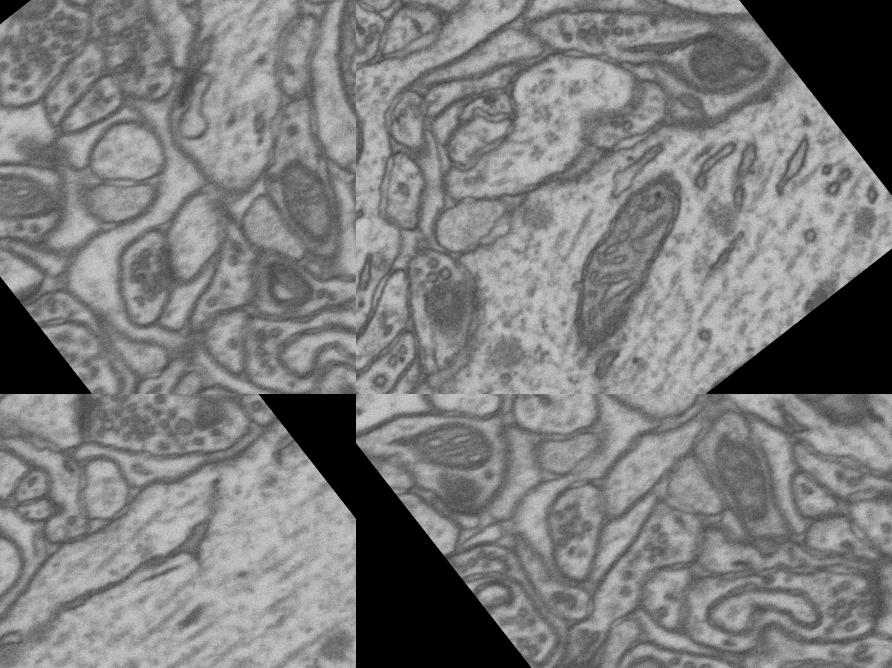mitochondria: (504, 154, 746, 382), (684, 421, 798, 540), (284, 0, 356, 162), (254, 145, 356, 259), (662, 8, 769, 115), (396, 252, 500, 356), (408, 398, 509, 497), (719, 394, 892, 448), (0, 143, 68, 253), (659, 328, 770, 394), (161, 394, 268, 461), (244, 243, 325, 327), (356, 76, 394, 202), (310, 585, 356, 668), (768, 642, 879, 668), (9, 0, 75, 35), (595, 645, 692, 668)
